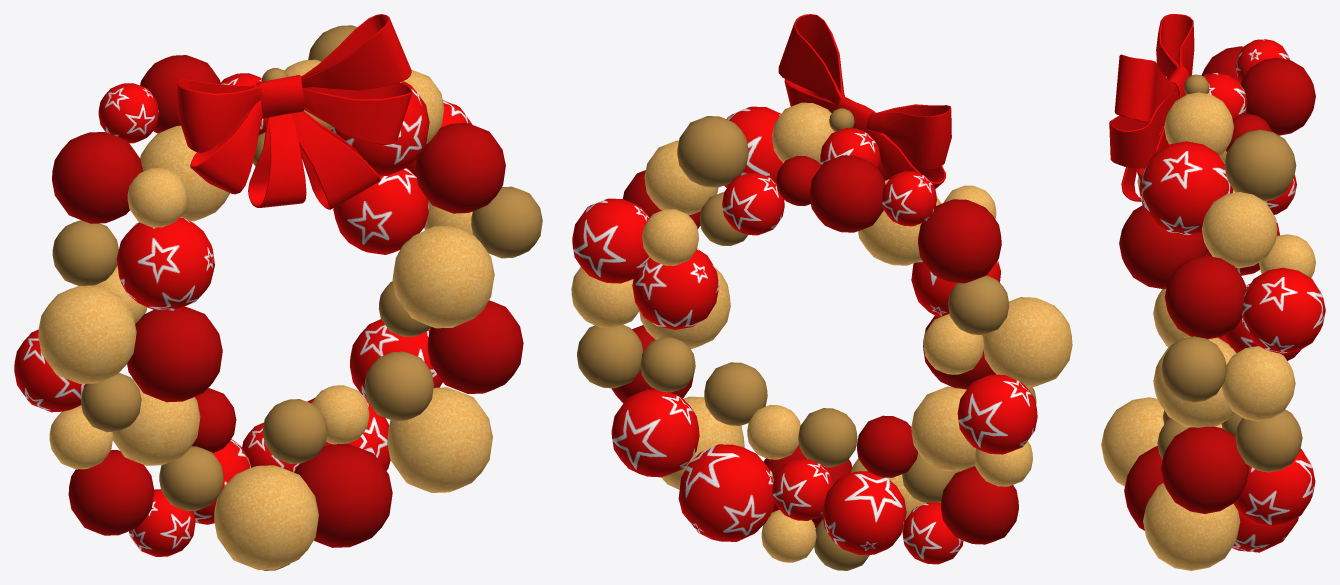
Rendered from FestiveWreath.gltf.
3 views of the same model, side by side, from view 1: azimuth 30°, elevation 25°; view 2: azimuth 150°, elevation 25°; view 3: azimuth 270°, elevation 25° (orthographic). The views are drawn at different scales.
Visible parts, largest first — view 1: holiday_wreath.1; view 2: holiday_wreath.1; view 3: holiday_wreath.1.
Boxes of the visible parts, left/top/right/bottom form: holiday_wreath.1: left=14, top=14, right=542, bottom=570; holiday_wreath.1: left=571, top=14, right=1072, bottom=570; holiday_wreath.1: left=1101, top=14, right=1325, bottom=570.
Size of the model in its own units: 0.4442 by 0.4736 by 0.189.
Materials: 1 (1 with a texture image).
